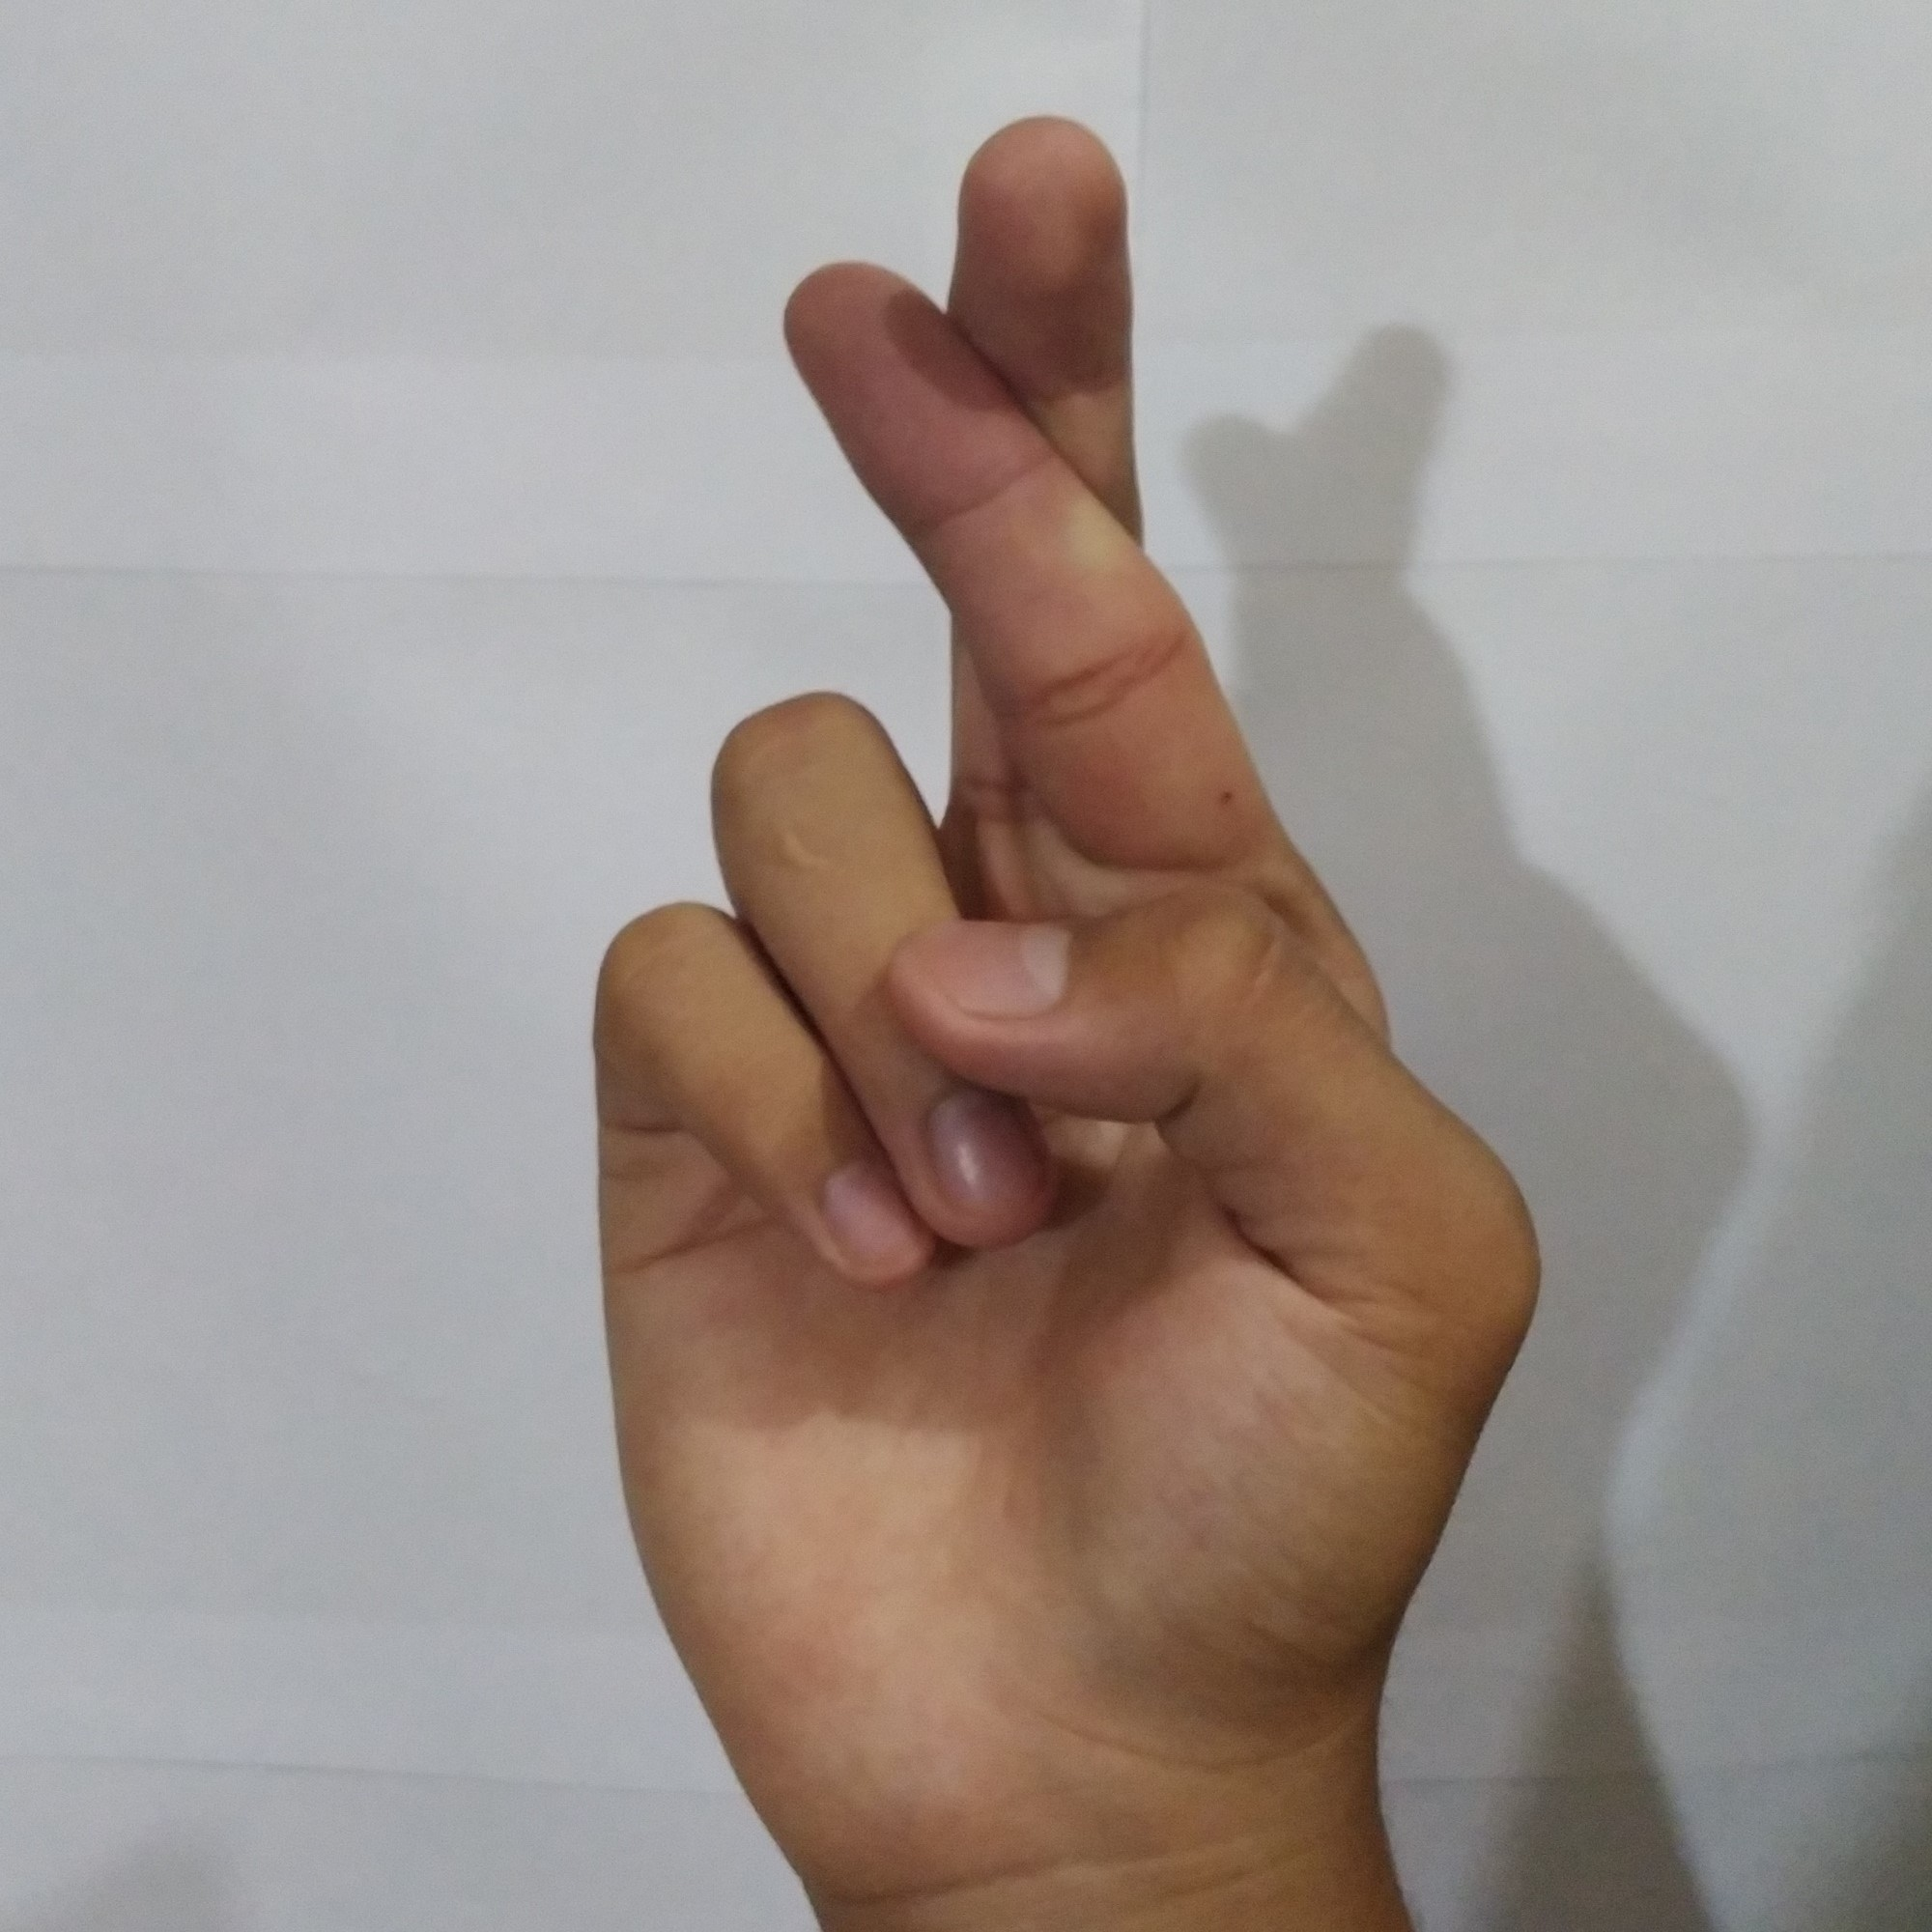R: (552, 81, 1564, 1829)
